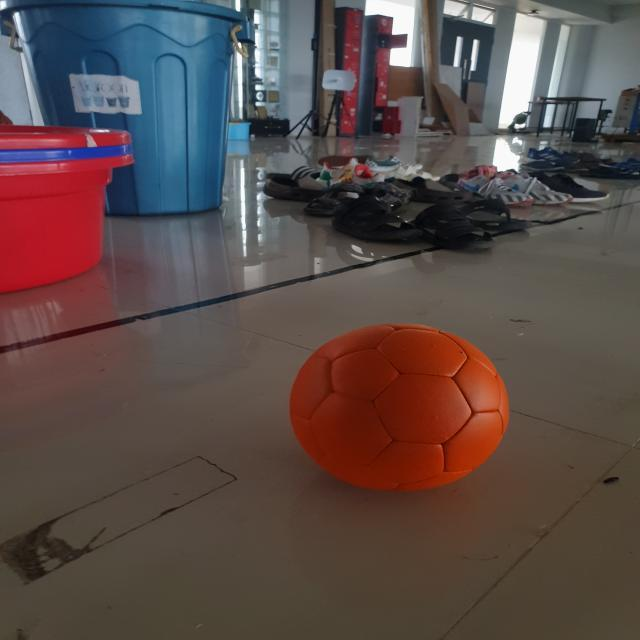bola: (258, 309, 528, 499)
